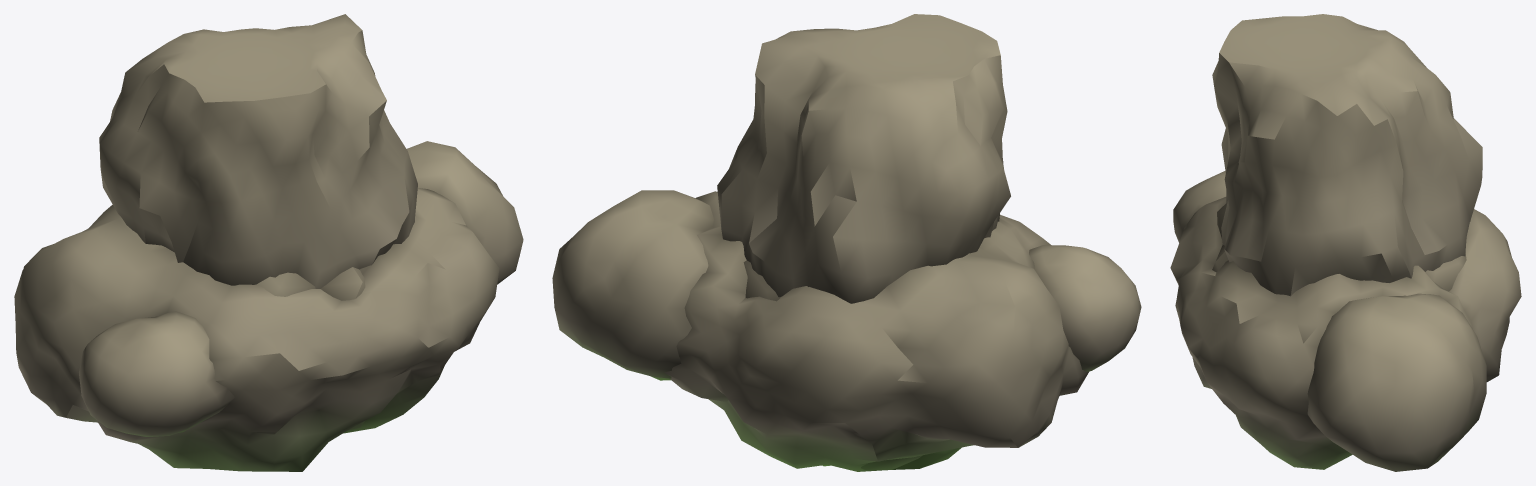
Rendered from rocas-pradera-BNSB8XIk.glb.
3 renders of one model, left to right at view 1: azimuth 30°, elevation 25°; view 2: azimuth 150°, elevation 25°; view 3: azimuth 270°, elevation 25°, orthographic. The views are drawn at different scales.
Parts seen in each view (by area): view 1: Roca A, Roca B, Roca C; view 2: Roca A, Roca B, Roca C; view 3: Roca B, Roca A, Roca C.
Part boxes in pixels (left/top/right/bottom): Roca A: left=14, top=188, right=499, bottom=471; Roca B: left=99, top=14, right=417, bottom=288; Roca C: left=79, top=141, right=523, bottom=436; Roca A: left=664, top=191, right=1088, bottom=471; Roca B: left=717, top=14, right=1010, bottom=470; Roca C: left=552, top=190, right=1141, bottom=380; Roca B: left=1212, top=14, right=1482, bottom=296; Roca A: left=1170, top=197, right=1521, bottom=469; Roca C: left=1173, top=171, right=1486, bottom=471.
Size of the model in its own units: 1.73 by 1.33 by 1.13.
